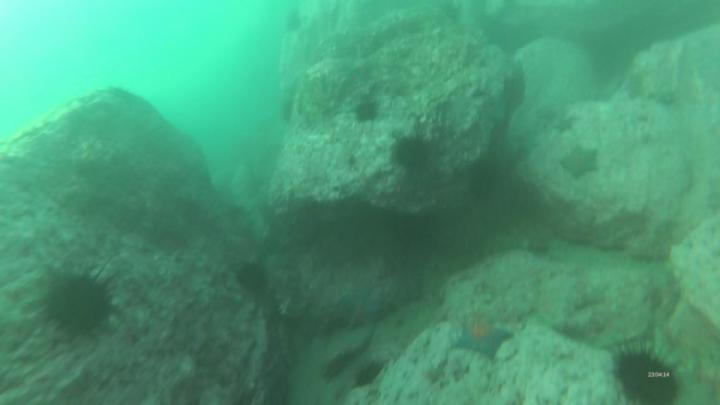echinus: (49, 276, 112, 336), (620, 353, 678, 405), (394, 139, 429, 170), (237, 262, 265, 290), (355, 360, 382, 386)
starfish: (455, 316, 513, 359), (340, 287, 380, 330), (562, 147, 599, 178), (353, 100, 382, 122)
